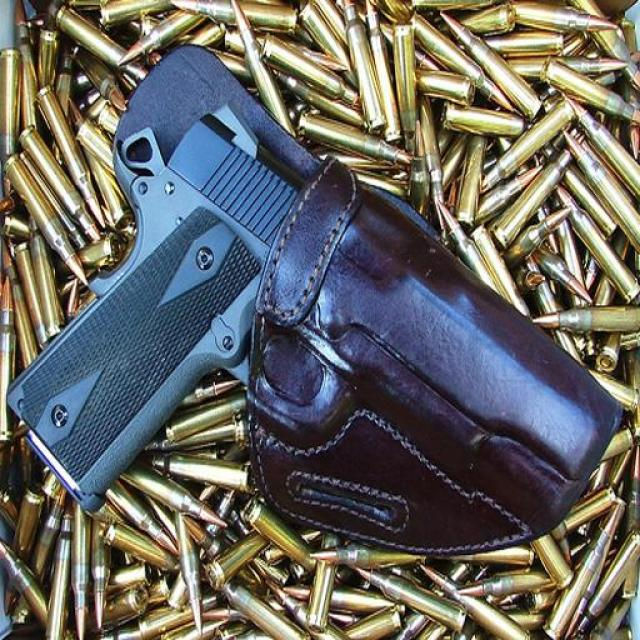pistol: (10, 97, 619, 551)
